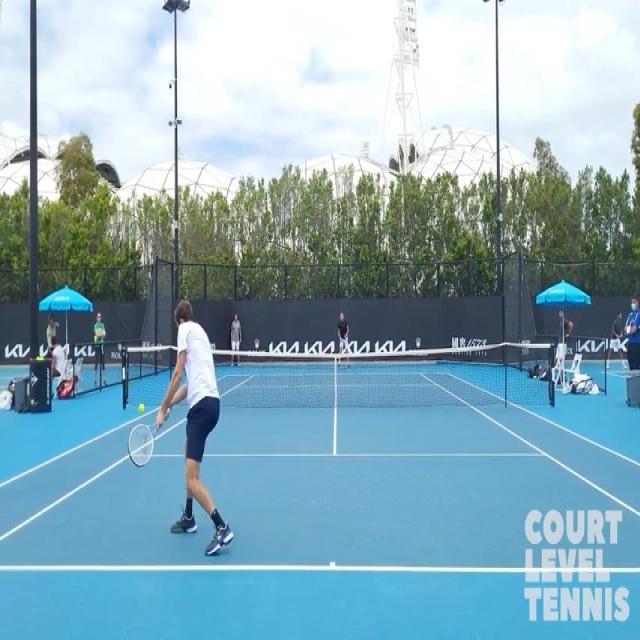backhand-stroke: (122, 272, 246, 566)
